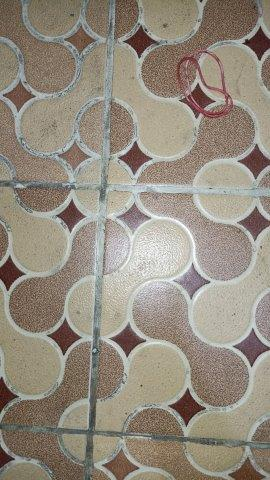karet: (177, 50, 234, 118)
